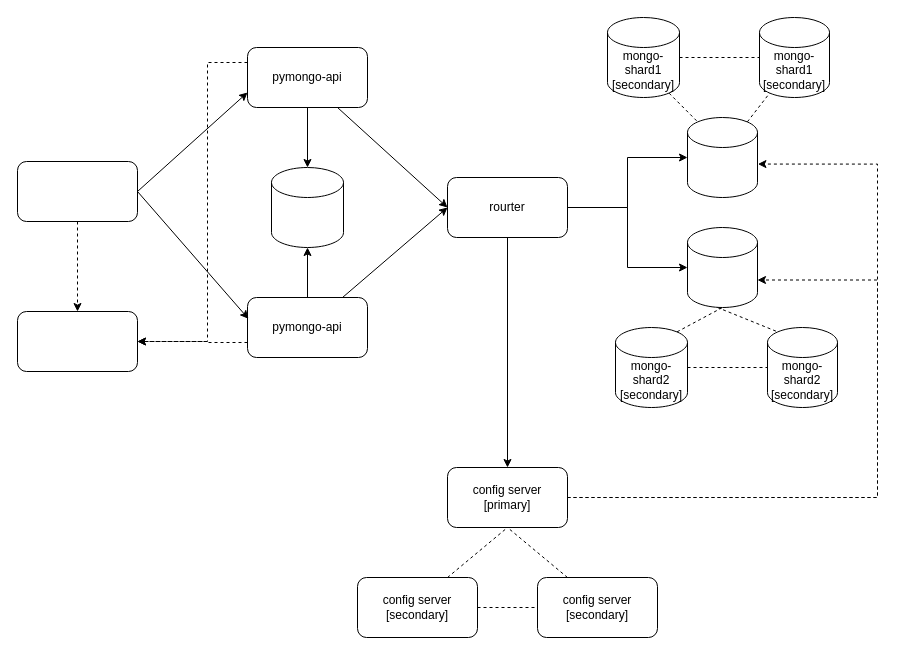
Some shapes in this 903 by 655 pixel diagram are drawn without their labels. The centre of each missing label's shape, as x and y in pixels:
API Gateway: (77,191)
mongo-shard1 [primary]: (722,157)
mongo-shard2 [primary]: (722,267)
Redis: (307,207)
Service Discovery [consul]: (77,341)
